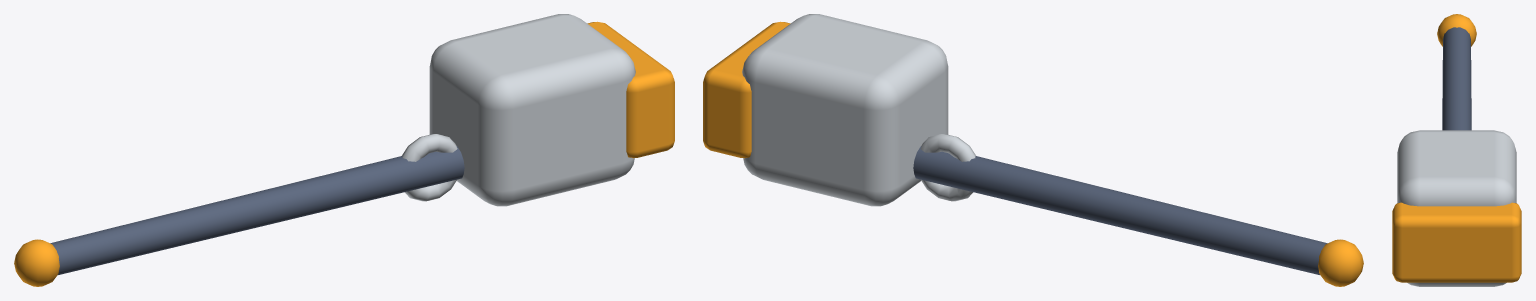
Rendered from hero-shooter-harbour-payload-item-war-hammer-1ee3442f__27664.glb.
3 renders of one model, left to right at view 1: azimuth 30°, elevation 25°; view 2: azimuth 150°, elevation 25°; view 3: azimuth 270°, elevation 25°, orthographic. The views are drawn at different scales.
Visible parts, largest first — view 1: item-war-hammer; view 2: item-war-hammer; view 3: item-war-hammer.
Part boxes in pixels (bbox=[...]): item-war-hammer: bbox=[14, 14, 674, 286]; item-war-hammer: bbox=[703, 14, 1363, 286]; item-war-hammer: bbox=[1392, 14, 1521, 286].
Bounding box in the file's own units: 1.21 × 0.24 × 0.26.
